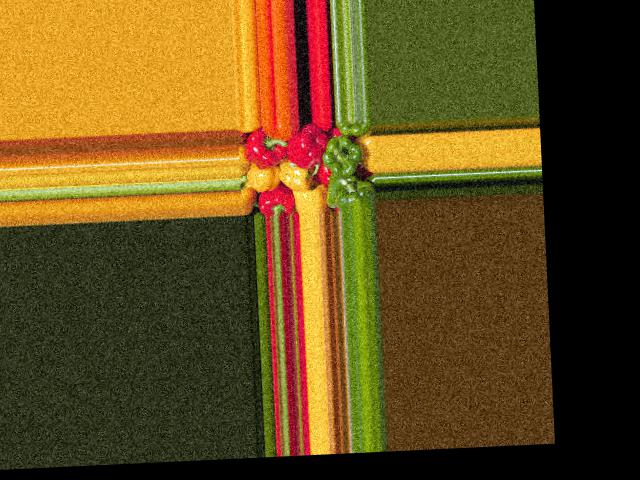bell_pepper: (335, 119, 373, 142)
